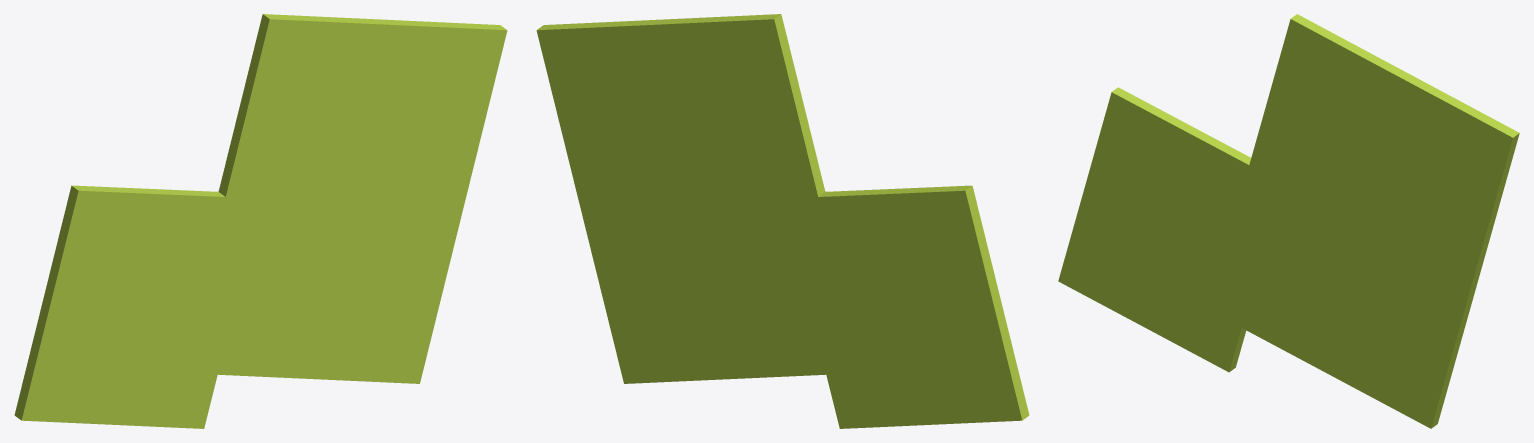
3 renders of one model, left to right at view 1: azimuth 30°, elevation 25°; view 2: azimuth 150°, elevation 25°; view 3: azimuth 330°, elevation 25°, orthographic. The views are drawn at different scales.
Parts seen in each view (by area): view 1: osm-way27917482-F0; view 2: osm-way27917482-F0; view 3: osm-way27917482-F0.
Part boxes in pixels (box(x1,y1,x2,y2)): osm-way27917482-F0: box(14, 14, 507, 428); osm-way27917482-F0: box(536, 14, 1029, 428); osm-way27917482-F0: box(1058, 14, 1519, 428).
Bounding box in the file's own units: 5.89 × 4.65 × 0.15.
